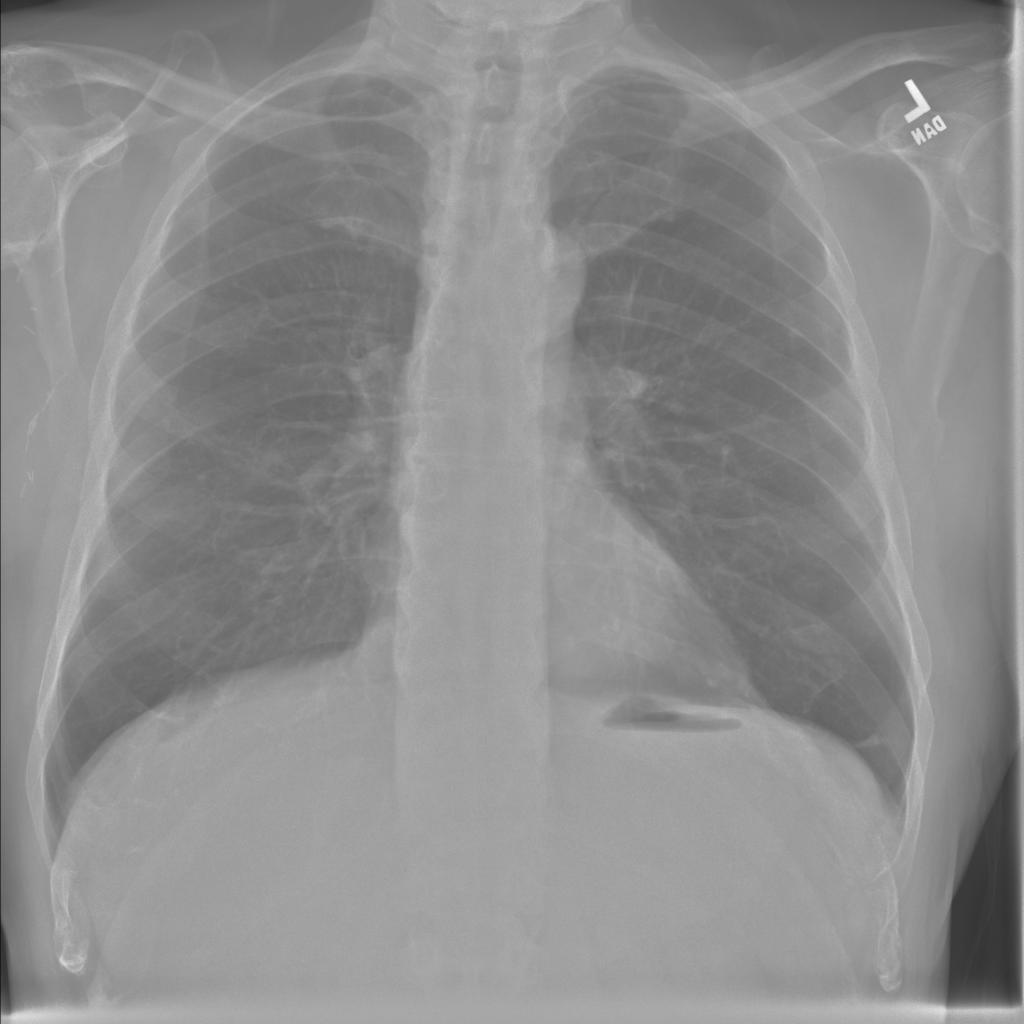Nodule: (392, 159, 417, 185), (404, 310, 426, 333), (404, 342, 424, 364), (400, 290, 422, 310)
